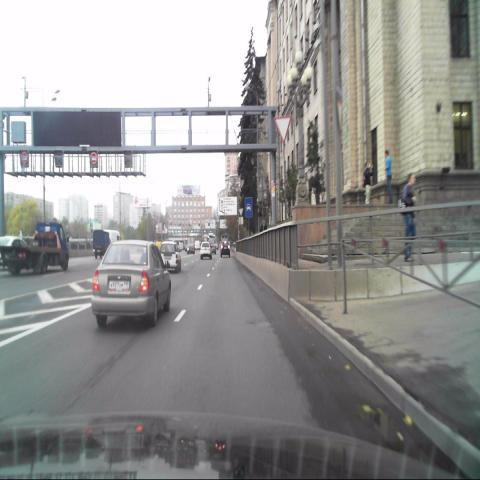2_4: (275, 115, 291, 143)
5_3: (245, 196, 253, 217)
